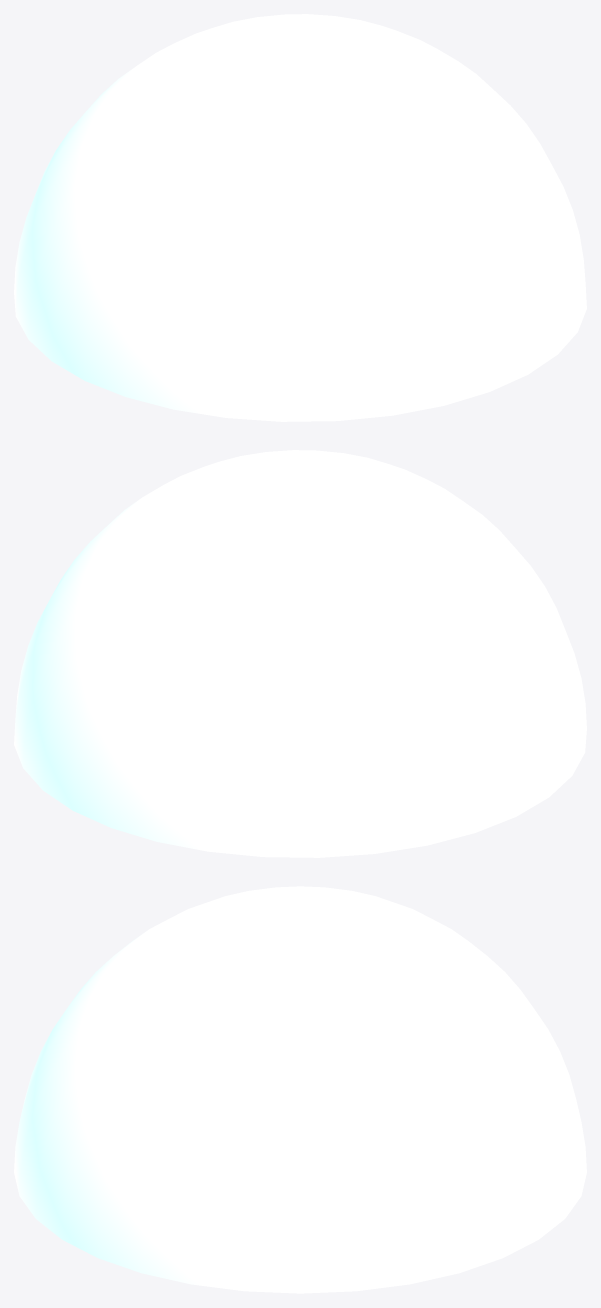
The model's file is sky_backdrop.glb.
3 renders of one model, top to bottom at view 1: azimuth 30°, elevation 25°; view 2: azimuth 150°, elevation 25°; view 3: azimuth 270°, elevation 25°, orthographic.
Visible parts, largest first — view 1: SkyBackdrop; view 2: SkyBackdrop; view 3: SkyBackdrop.
Part boxes in pixels (<box>): SkyBackdrop: <box>14,14,586,421</box>; SkyBackdrop: <box>14,450,586,857</box>; SkyBackdrop: <box>14,886,586,1293</box>.
Bounding box in the file's own units: 100 × 50 × 100.
